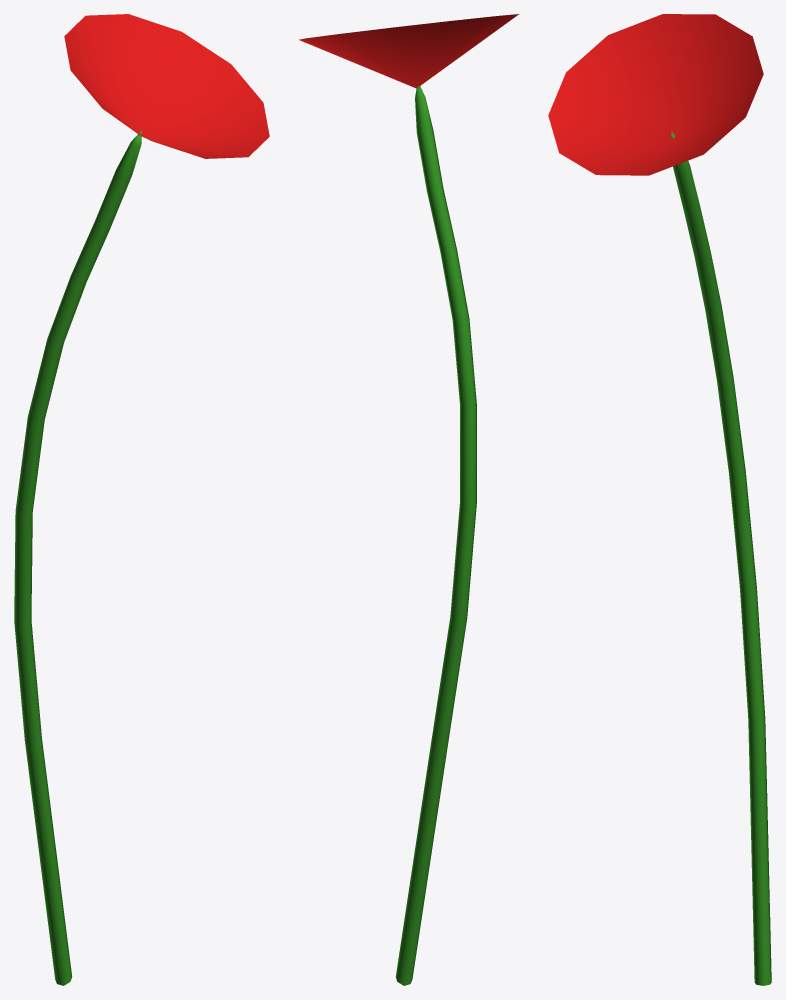
File: SM_flower_02.fbx
3 views of the same model, side by side, from view 1: azimuth 30°, elevation 25°; view 2: azimuth 150°, elevation 25°; view 3: azimuth 270°, elevation 25° (orthographic). The views are drawn at different scales.
Parts seen in each view (by area): view 1: Object3427865; view 2: Object3427865; view 3: Object3427865.
Boxes of the visible parts, box(x1,y1,x2,y2) form: Object3427865: box(14, 14, 269, 985); Object3427865: box(299, 14, 518, 985); Object3427865: box(548, 14, 771, 985).
Bounding box in the file's own units: 4.64 × 21.29 × 4.5.
